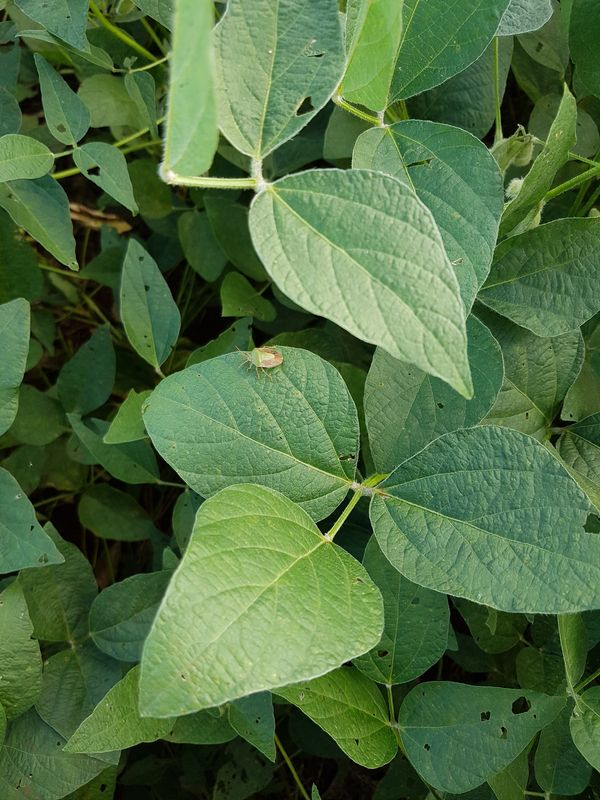Edessa_meditabunda: (225, 334, 289, 386)
